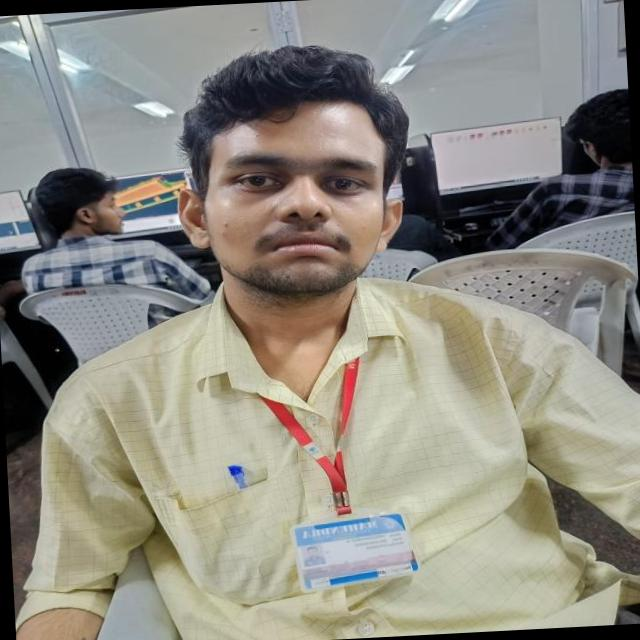id_card: (260, 324, 410, 591)
